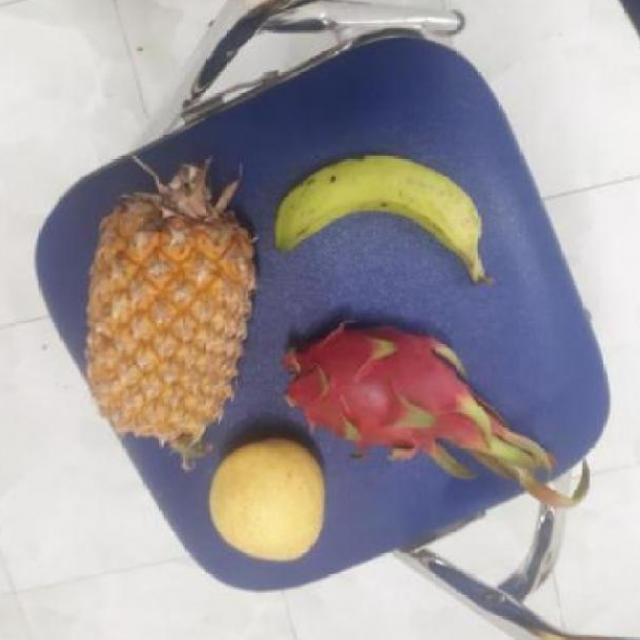banana: (278, 156, 502, 286)
dragon fruit: (284, 316, 498, 461)
pear: (203, 438, 329, 564)
pineapple: (88, 183, 260, 457)
